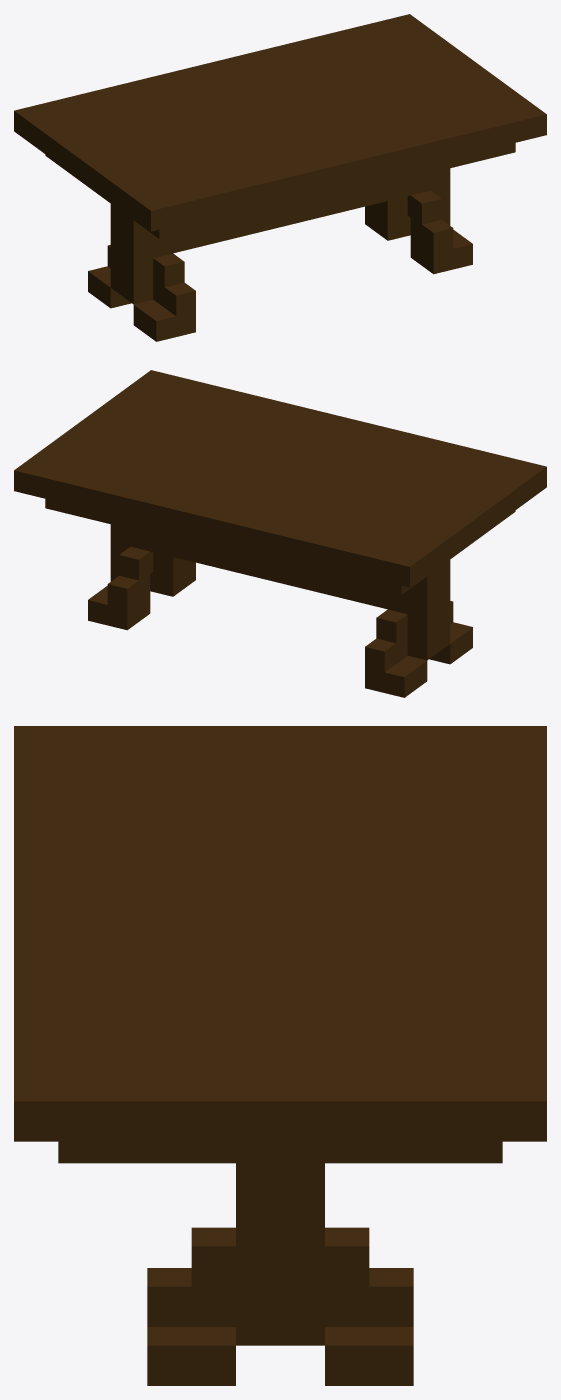
The model's file is dining_table1.obj.
3 renders of one model, top to bottom at view 1: azimuth 30°, elevation 25°; view 2: azimuth 150°, elevation 25°; view 3: azimuth 270°, elevation 25°, orthographic. The views are drawn at different scales.
Visible parts, largest first — view 1: dining_table1; view 2: dining_table1; view 3: dining_table1.
Boxes of the visible parts, bbox=[...] form: dining_table1: bbox=[14, 14, 546, 341]; dining_table1: bbox=[14, 370, 546, 697]; dining_table1: bbox=[14, 726, 546, 1385].
Bounding box in the file's own units: 20 × 8 × 12.
